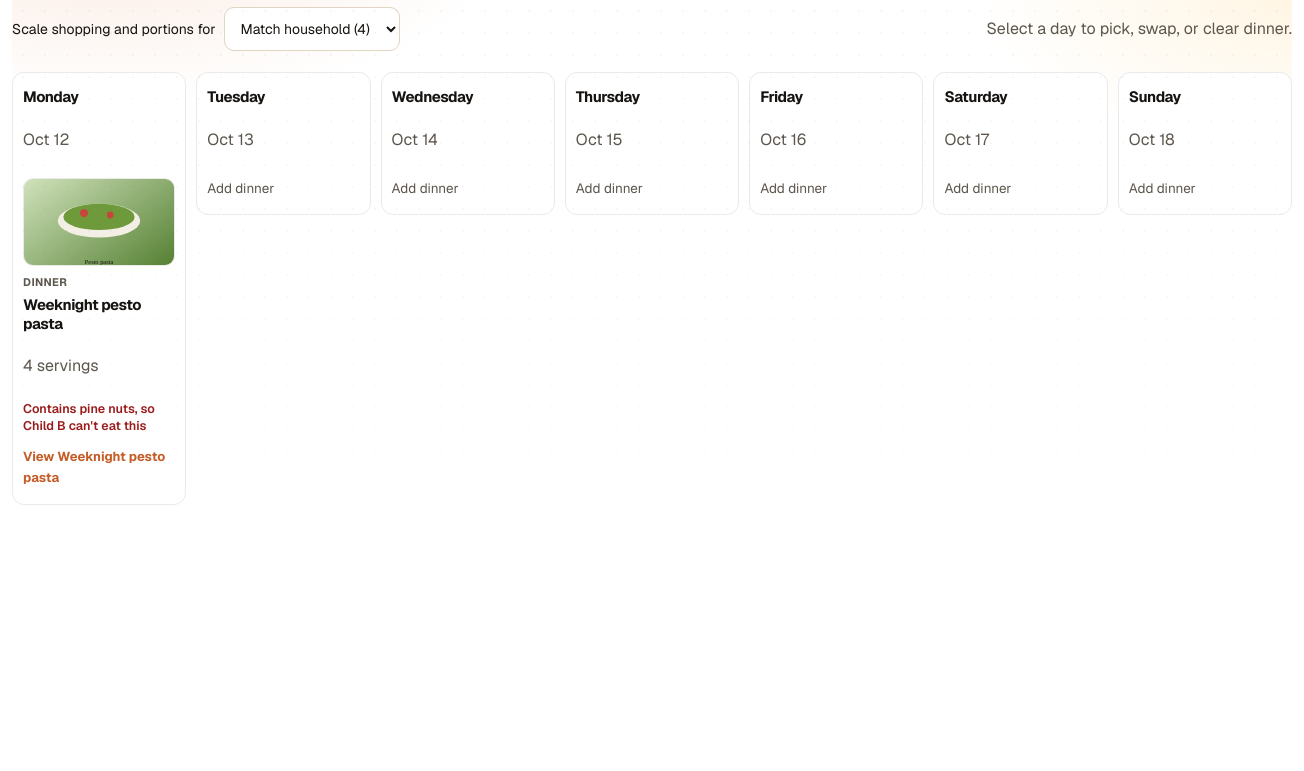
MealPlanWeek › restores the dinner on the plan immediately after Undo
This screenshot has width=1304, height=771.
What coordinates should you click on to do the following:
click the button "Monday"
I would click on:
 (99, 260)
Its box is [23,85,175,435].
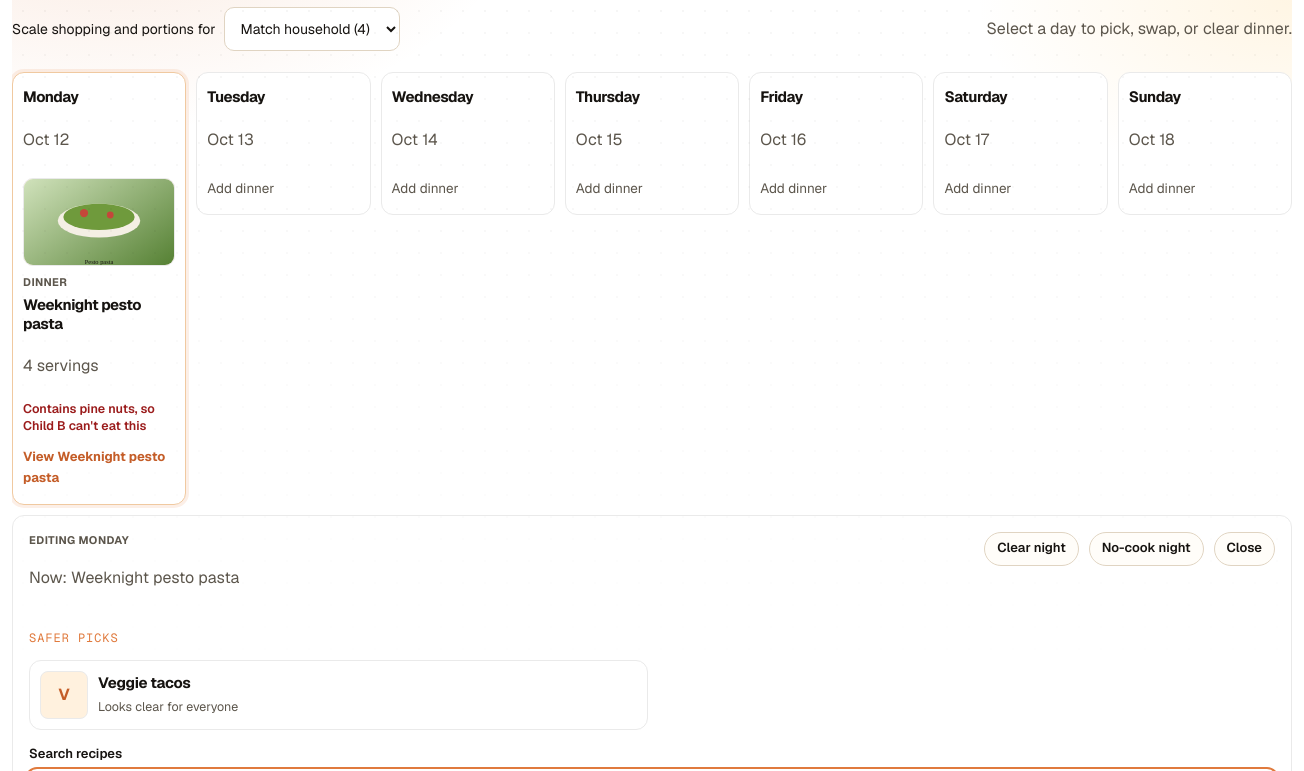
What coordinates should you click on to do the following:
click the button "Clear night"
I would click on:
 (1031, 548)
Its box is [984,532,1079,566].
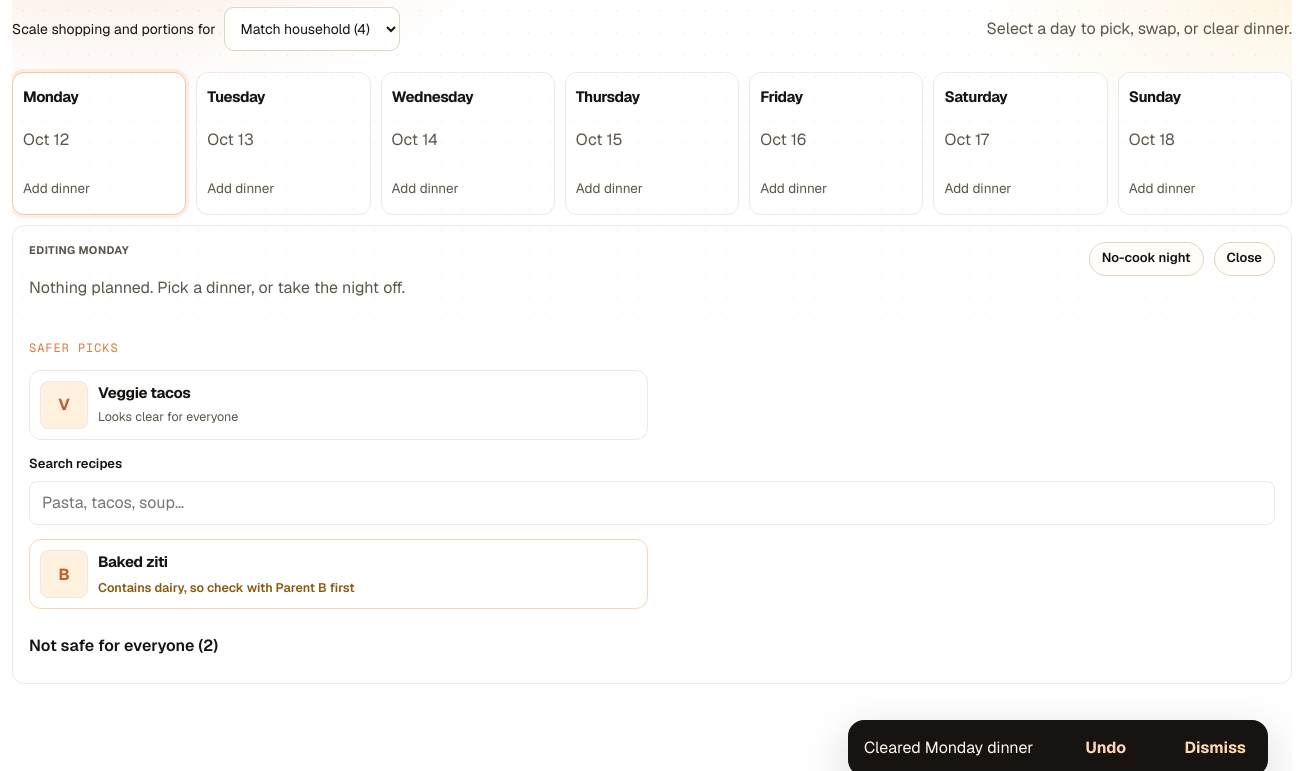
Check: the text "Cleared Monday dinner" is shown, box [864,735,1033,761]
Check: the heading "Weeknight pesto pasta" is gone
What coordinates should you click on to do the following:
click the button "Undo"
I would click on:
 (1106, 748)
Its box is [1080,734,1132,762].
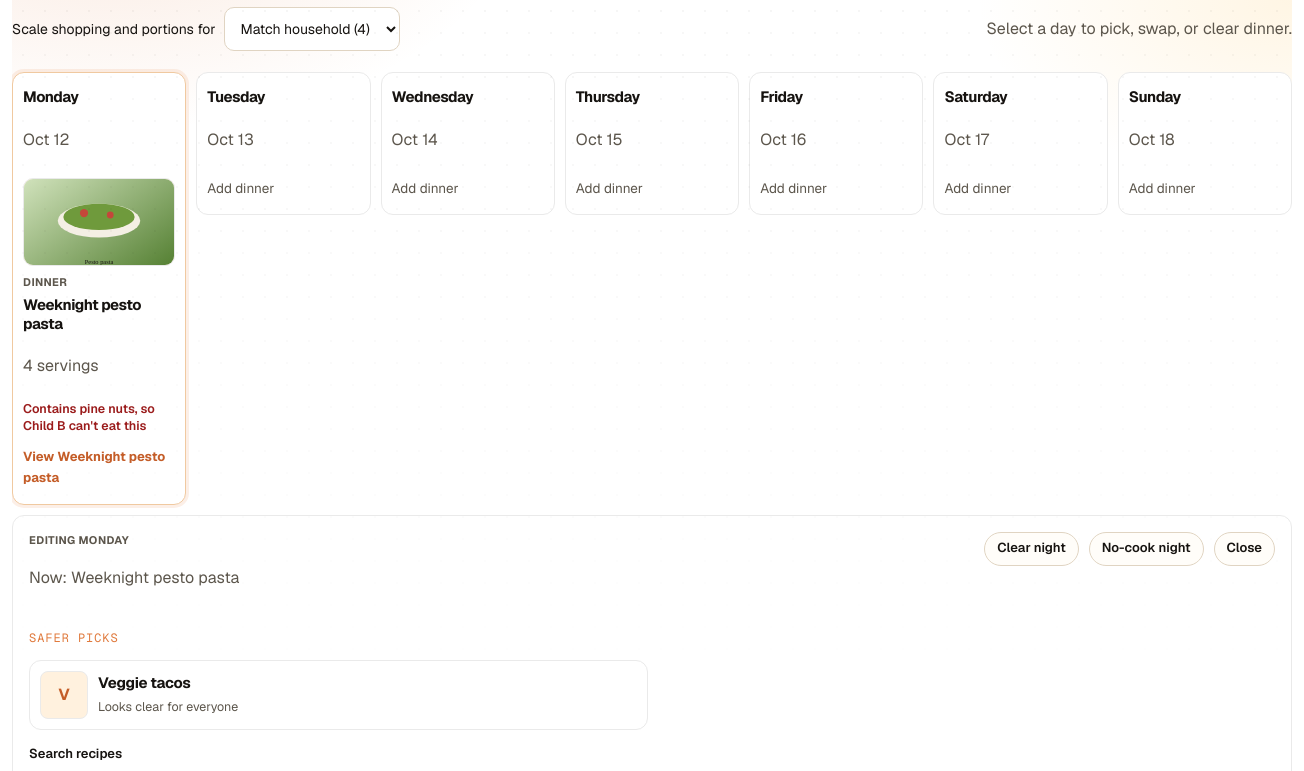
Check: the heading "Weeknight pesto pasta" is shown, box [23,295,141,333]
